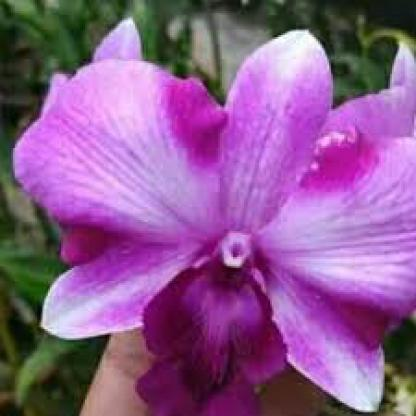ANGGREK: (30, 22, 406, 399)
